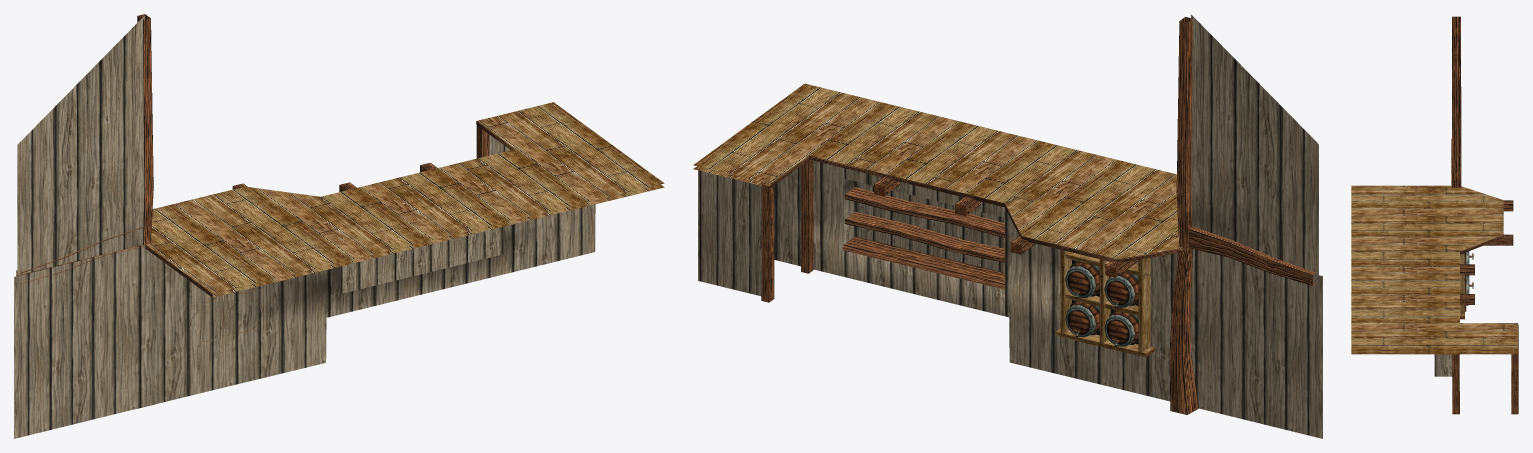
File: LAKETOWN_PUB_PS_PUB_BACKBAR857__GX.obj
The picture shows the model from 3 angles, left to right: view 1: azimuth 30°, elevation 25°; view 2: azimuth 150°, elevation 25°; view 3: azimuth 270°, elevation 25°; orthographic projection. The views are drawn at different scales.
Visible parts, largest first — view 1: _BackBar857__GX; view 2: _BackBar857__GX; view 3: _BackBar857__GX.
Boxes of the visible parts, <box> form: _BackBar857__GX: <box>14,14,664,438</box>; _BackBar857__GX: <box>693,14,1322,438</box>; _BackBar857__GX: <box>1351,16,1518,414</box>.
Bounding box in the file's own units: 1105 × 709 × 367.
